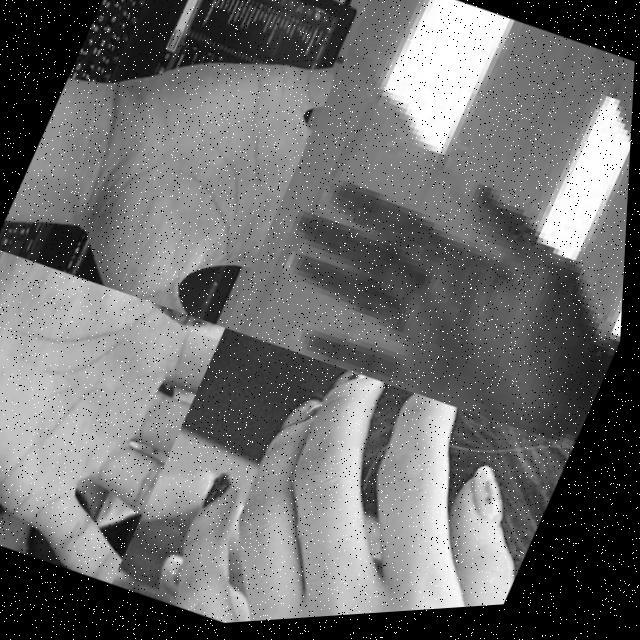no-gloves: (236, 115, 634, 472), (160, 330, 582, 630), (50, 0, 353, 340), (0, 234, 231, 592)
